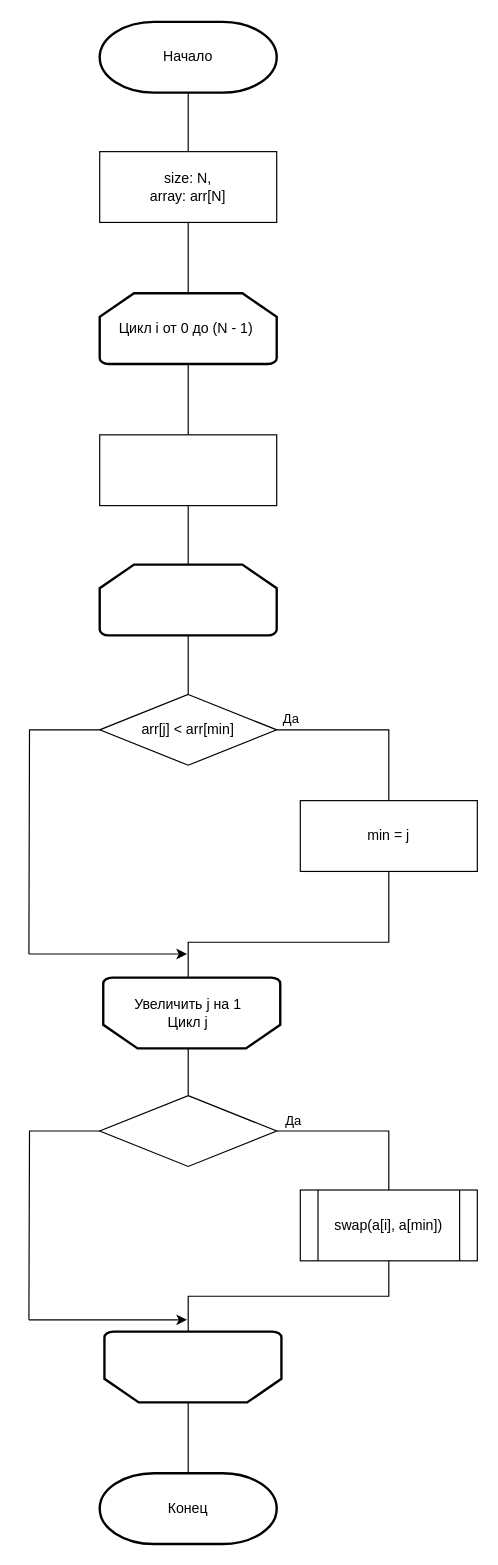
Image size: 498x1565. Some labels were removed from this diagram. The shapes that lost their labels are listed below. From the top down, each one's centre as x and y in pixels, then its label:
At point (188, 470): "min = i".
At point (187, 599): "Цикл j от i + 1 до N".
At point (188, 1130): "min != i".
At point (192, 1366): "Увеличить i на 1 Цикл i".
